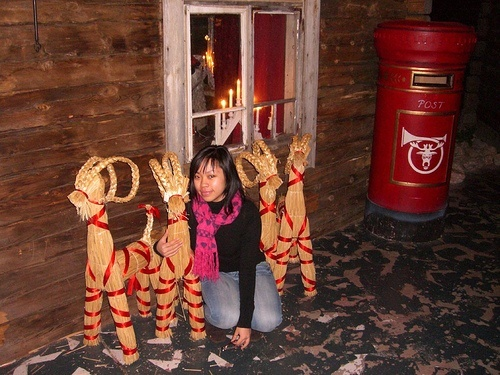head: (190, 144, 234, 204)
person: (180, 144, 278, 349)
